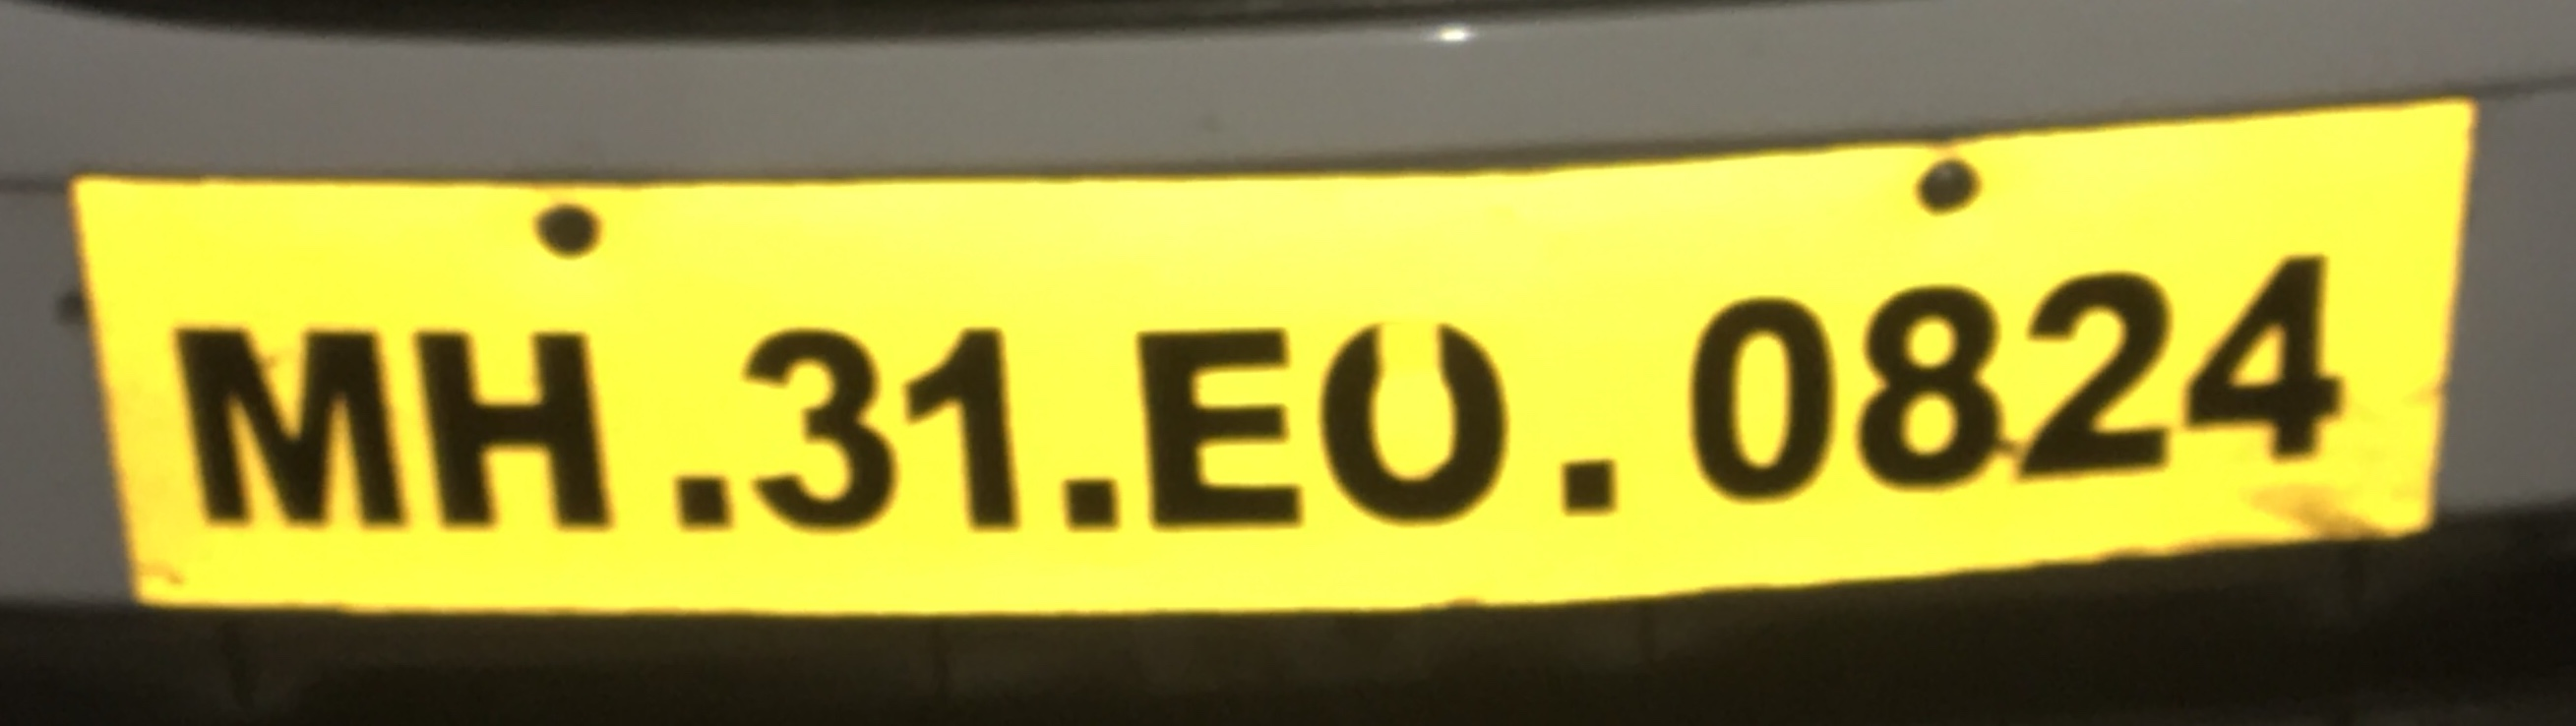numberplate: (66, 87, 2490, 618)
